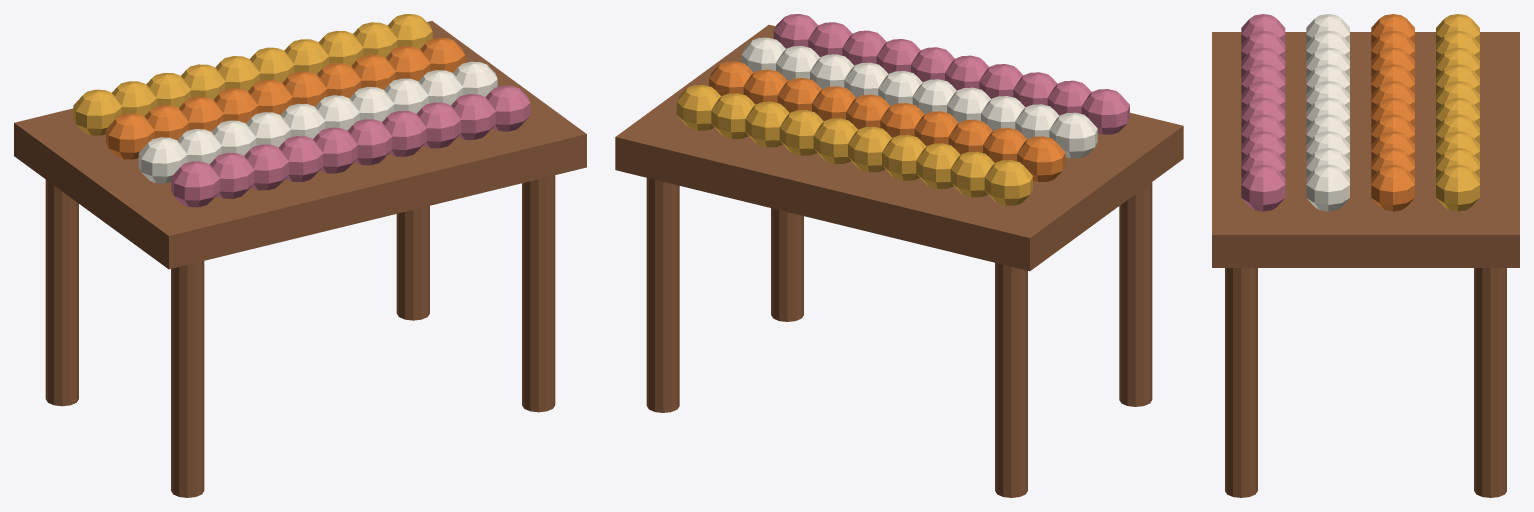
Rendered from 060_flower_sellers_table.glb.
3 views of the same model, side by side, from view 1: azimuth 30°, elevation 25°; view 2: azimuth 150°, elevation 25°; view 3: azimuth 270°, elevation 25° (orthographic).
Parts seen in each view (by area): view 1: Flower sellers table; view 2: Flower sellers table; view 3: Flower sellers table.
Boxes of the visible parts, x1,y1,x2,y2 form: Flower sellers table: [14, 14, 586, 497]; Flower sellers table: [615, 14, 1183, 497]; Flower sellers table: [1212, 14, 1519, 497].
Size of the model in its own units: 1.31 by 0.943 by 0.84.
